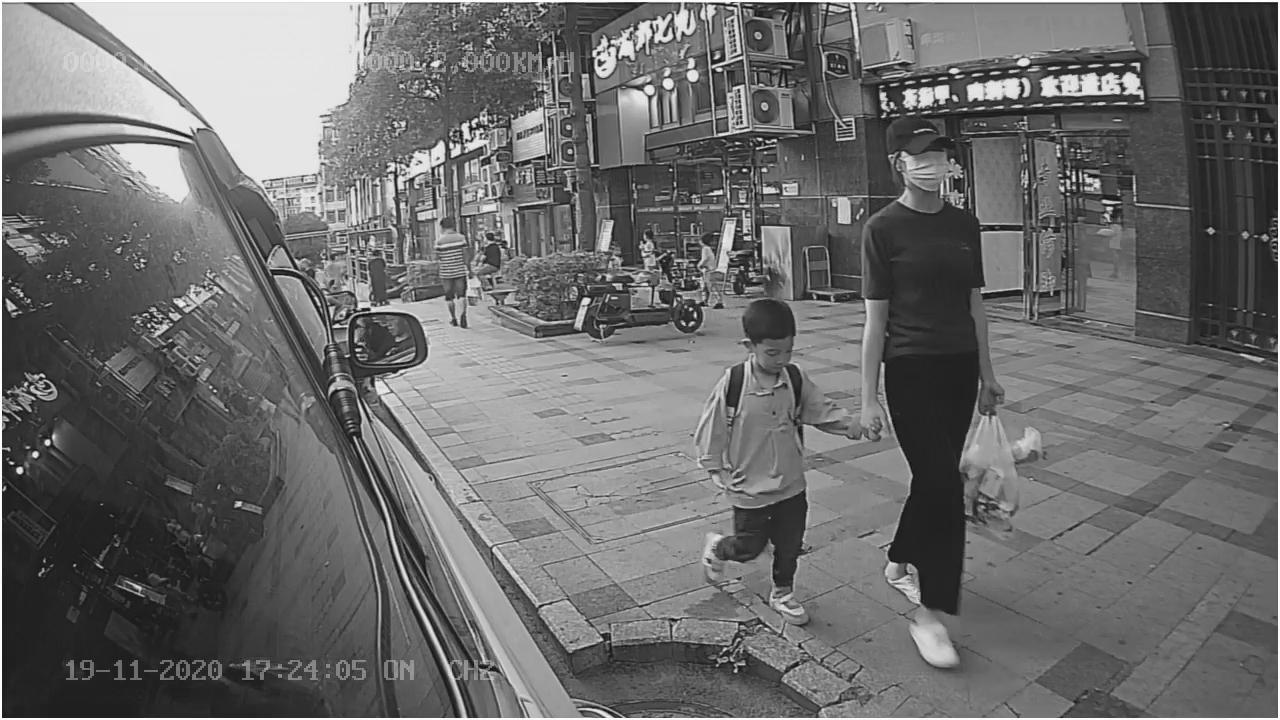person: (850, 115, 1010, 686), (686, 289, 857, 633), (427, 215, 475, 331)
